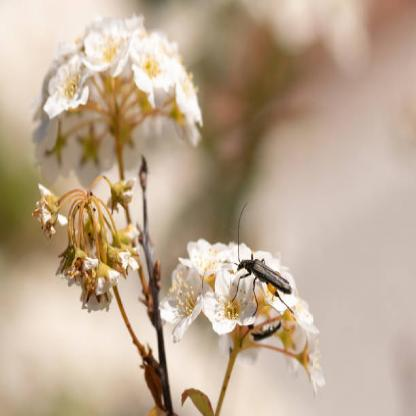sawfly: (200, 200, 298, 320)
